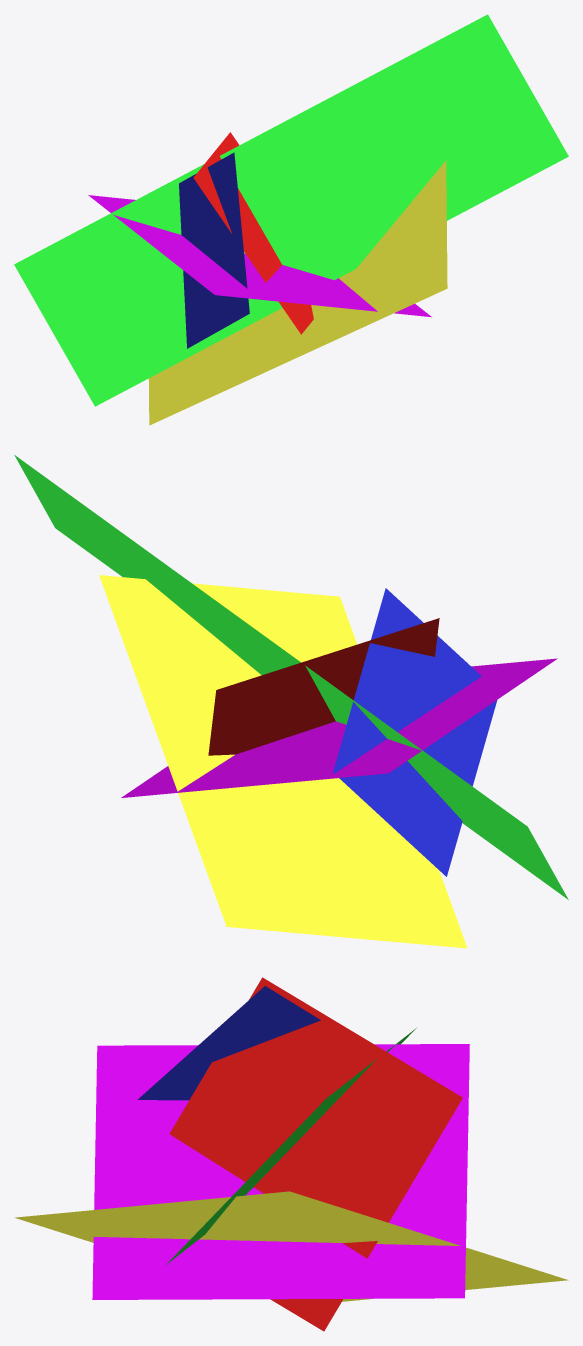
File: LageB_senkrecht_eben_eben.glb
3 renders of one model, top to bottom at view 1: azimuth 30°, elevation 25°; view 2: azimuth 150°, elevation 25°; view 3: azimuth 270°, elevation 25°, orthographic. The views are drawn at different scales.
Parts seen in each view (by area): view 1: p.0020, p.0015, p.0017, p.0016, p.0018; view 2: p.0015, p.0017, p.0020, p.0016, p.0018; view 3: p.0016, p.0018, p.0015, p.0017, p.0020.
Boxes of the visible parts, x1,y1,x2,y2 form: p.0020: (14, 14, 568, 406); p.0015: (148, 160, 447, 425); p.0017: (179, 152, 249, 348); p.0016: (88, 195, 431, 317); p.0018: (193, 132, 313, 334); p.0015: (99, 575, 467, 948); p.0017: (333, 588, 497, 876); p.0020: (14, 455, 568, 899); p.0016: (121, 658, 557, 797); p.0018: (208, 618, 439, 755); p.0016: (92, 1044, 469, 1299); p.0018: (169, 977, 462, 1331); p.0015: (15, 1191, 568, 1301); p.0017: (137, 986, 320, 1100); p.0020: (165, 1028, 416, 1265).
Size of the model in its own units: 1.02 by 0.6628 by 0.7388.
